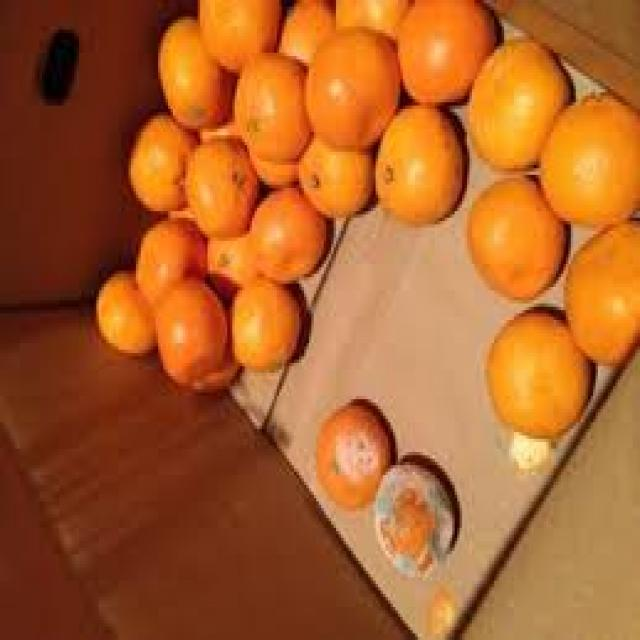organic waste: (464, 36, 571, 168), (536, 89, 638, 224), (482, 304, 588, 432), (464, 172, 566, 300), (368, 99, 465, 224), (299, 26, 398, 142), (561, 214, 637, 363), (396, 0, 500, 99), (373, 455, 457, 571), (230, 46, 311, 158), (314, 403, 390, 508), (156, 10, 225, 125), (245, 182, 326, 277), (180, 128, 252, 228), (154, 277, 222, 379), (225, 277, 299, 370), (294, 132, 371, 218), (136, 218, 205, 307), (128, 116, 192, 204), (198, 0, 276, 66), (94, 267, 153, 353), (178, 320, 237, 389), (200, 228, 260, 287), (276, 0, 331, 59), (420, 580, 465, 636), (331, 0, 410, 30), (506, 426, 554, 468), (245, 145, 294, 182)
